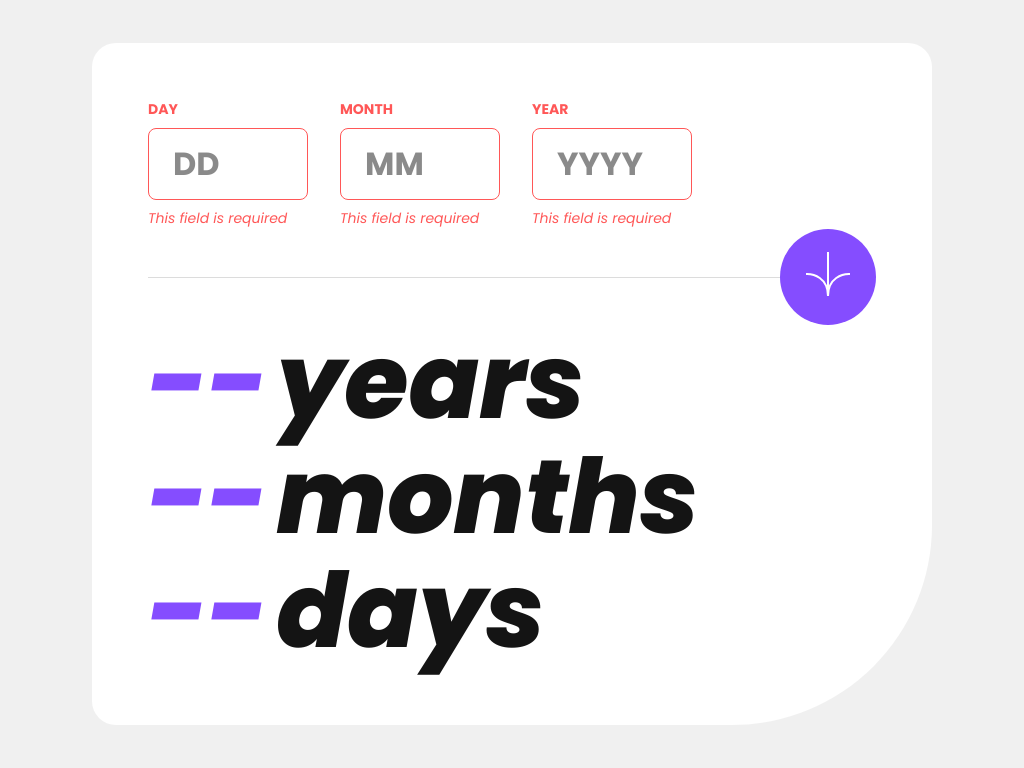
Scenario: Test in <App /> › Must accept only valid dates (31-Abr -> X)
The image size is (1024, 768).
Type "31" into the number field with test id "input-day". click: (228, 164)
box: [148,128,308,200]
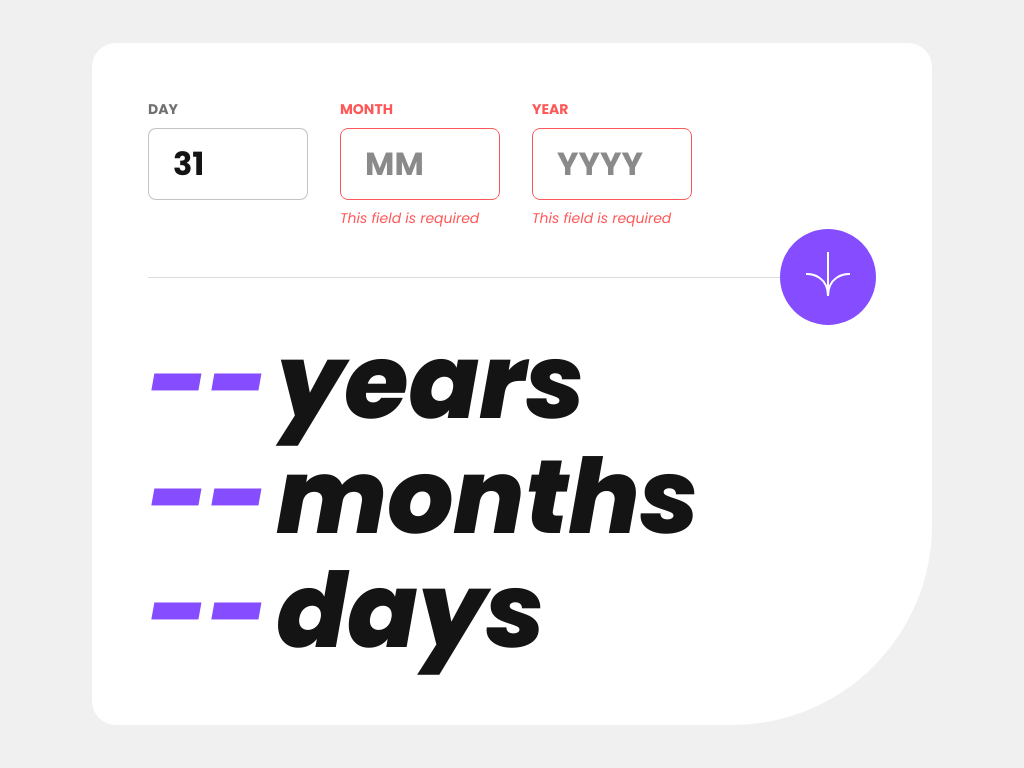
Type "4" into the number field with test id "input-month". click: (420, 164)
box: [340,128,500,200]
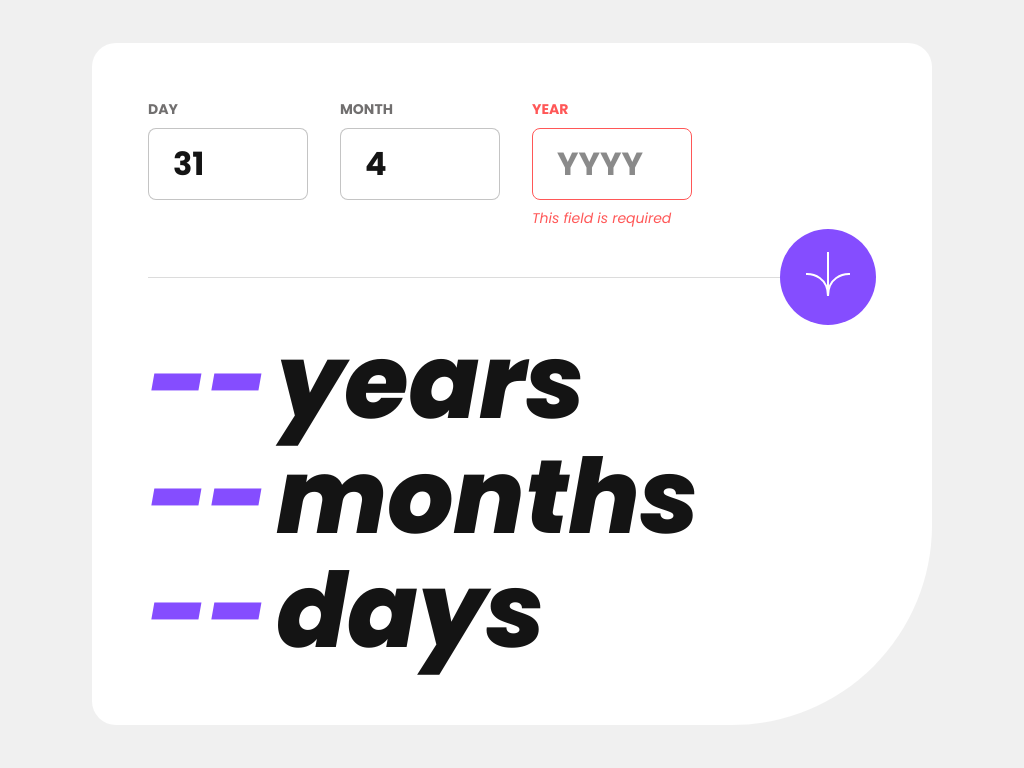
Type "2000" into the number field with test id "input-year". click: (612, 164)
box: [532,128,692,200]
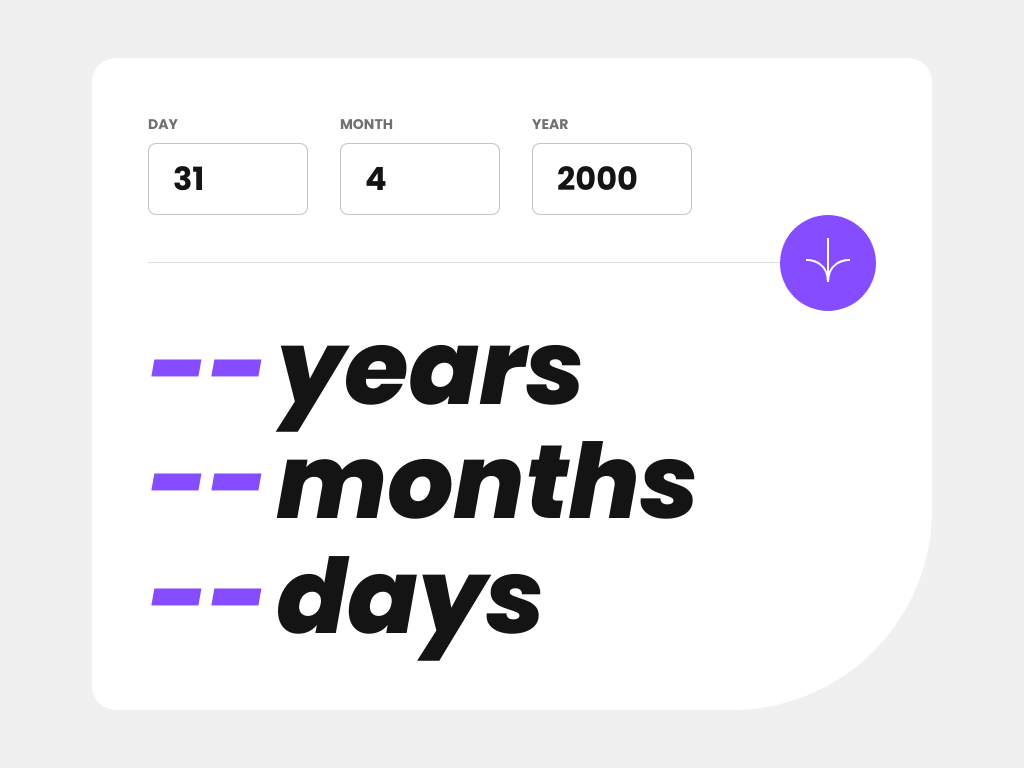
Click the button with test id "button-submit". click: (828, 263)
box: [780,215,876,311]
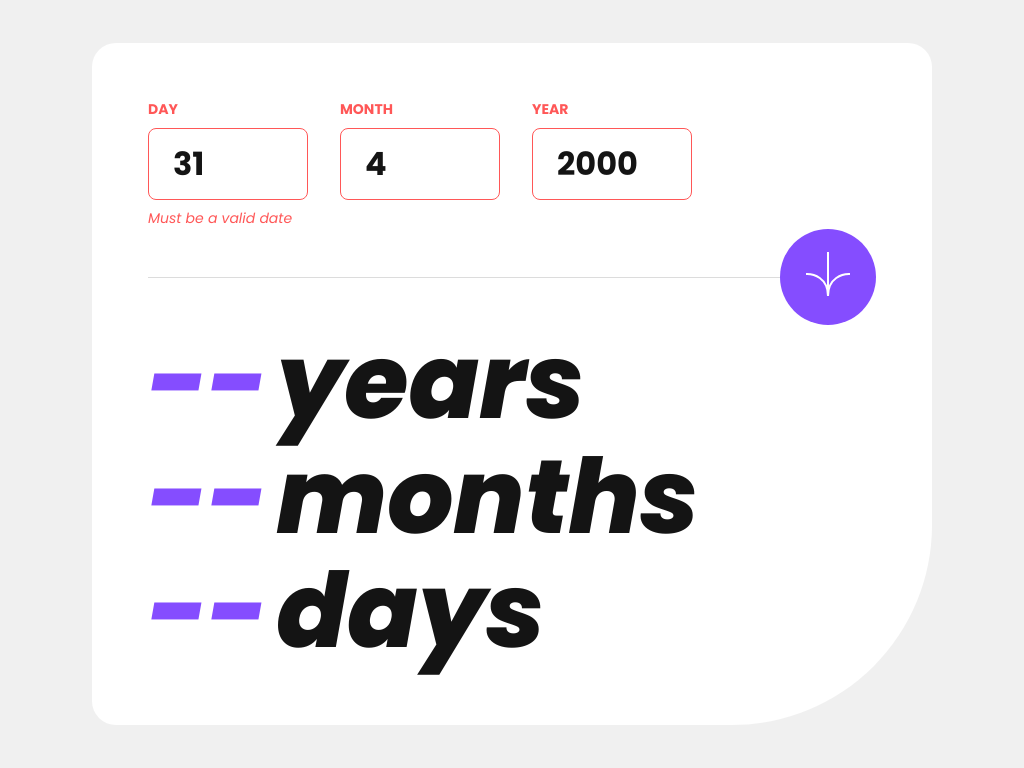
Expected: the text "Must be a valid date" is shown, [148,208,308,229]
